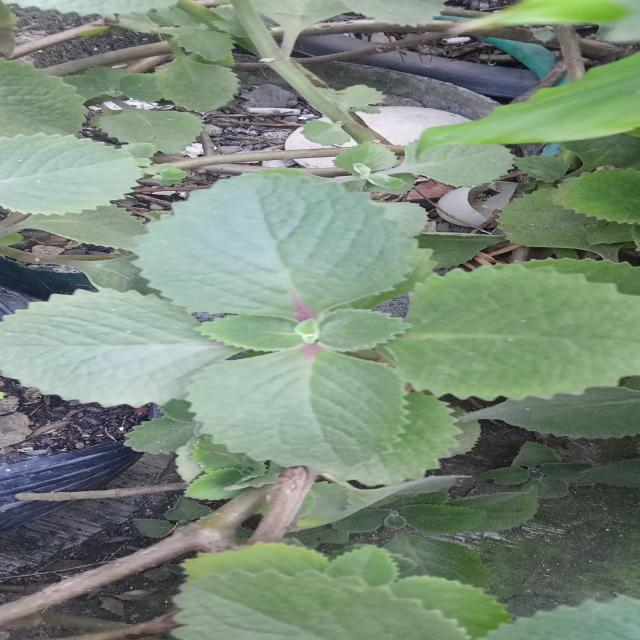Oregano: (107, 157, 452, 366)
